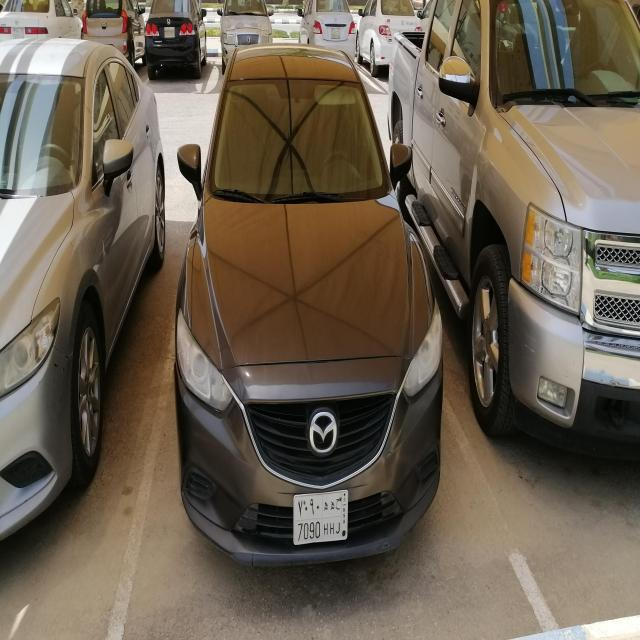license_plate: (293, 490, 348, 546), (164, 26, 176, 38), (12, 28, 24, 40), (331, 28, 341, 39)
